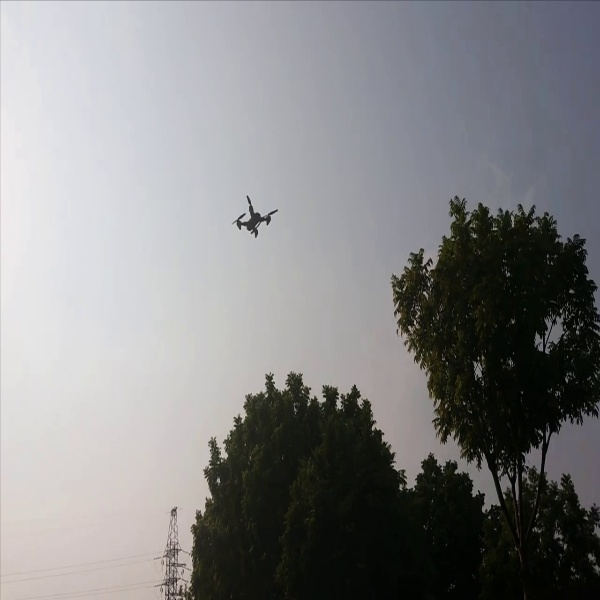drone: (225, 187, 284, 249)
